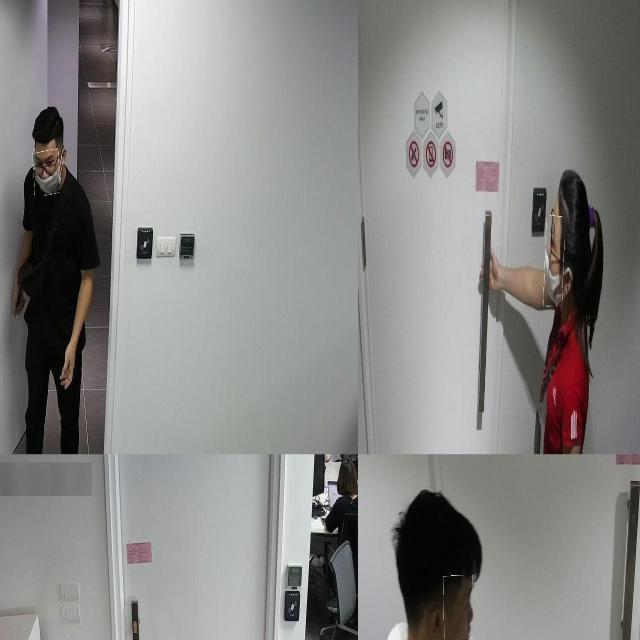hairnet: (544, 215, 564, 308), (32, 150, 59, 196)
